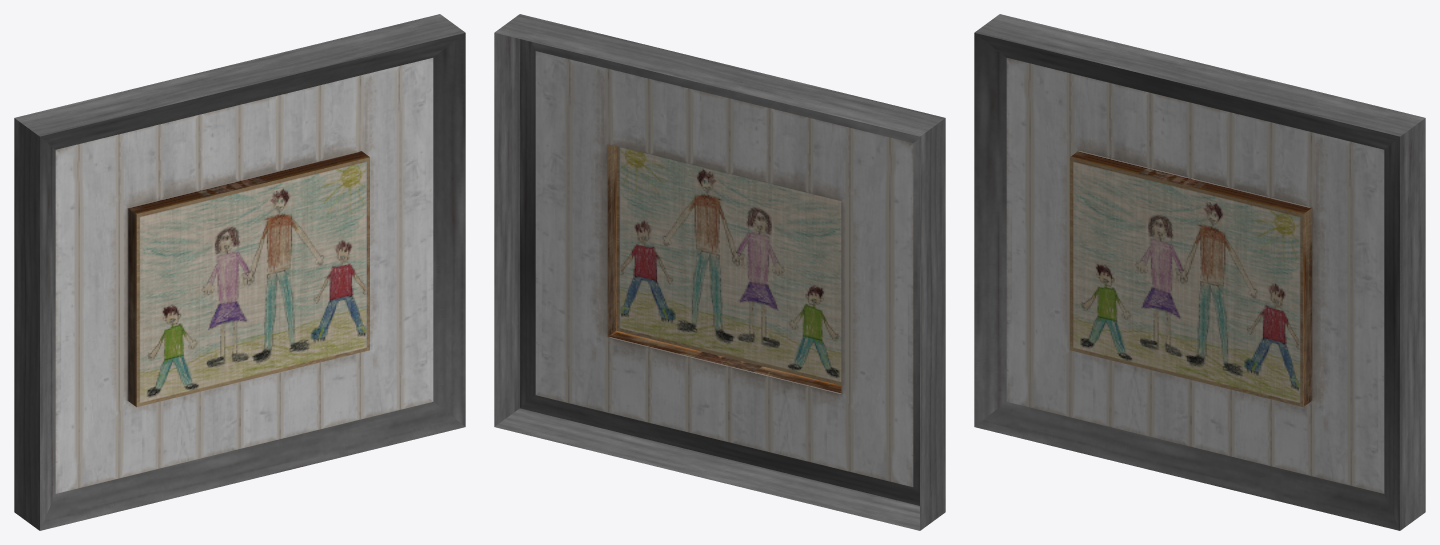
Rendered from Walldecor_01.FBX.
The picture shows the model from 3 angles, left to right: view 1: azimuth 30°, elevation 25°; view 2: azimuth 150°, elevation 25°; view 3: azimuth 330°, elevation 25°; orthographic projection.
Parts seen in each view (by area): view 1: Walldecor_01; view 2: Walldecor_01; view 3: Walldecor_01.
Boxes of the visible parts, x1,y1,x2,y2 form: Walldecor_01: (14,14,465,530); Walldecor_01: (494,14,945,530); Walldecor_01: (974,14,1425,530).
Bounding box in the file's own units: 105 × 11.15 × 92.85.
